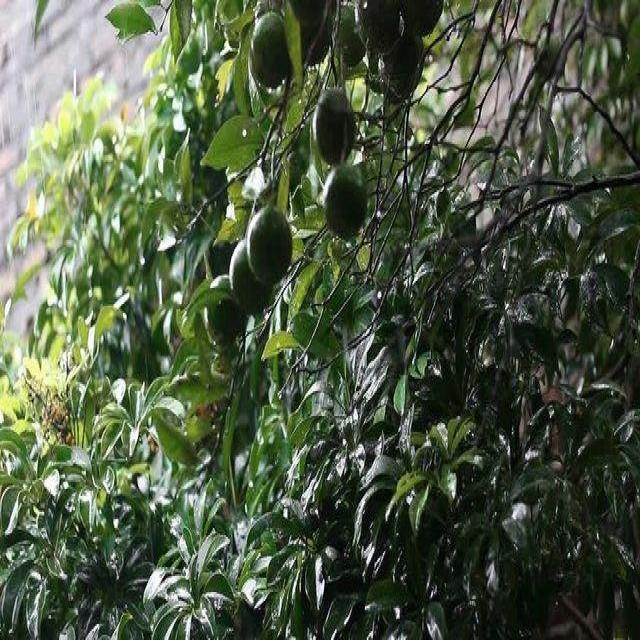Jeruk Belum Matang: (248, 206, 293, 283), (230, 238, 273, 315), (325, 167, 370, 237), (314, 89, 356, 160), (205, 274, 245, 344), (250, 15, 288, 86), (357, 0, 405, 53), (296, 12, 334, 60), (403, 0, 452, 28)
